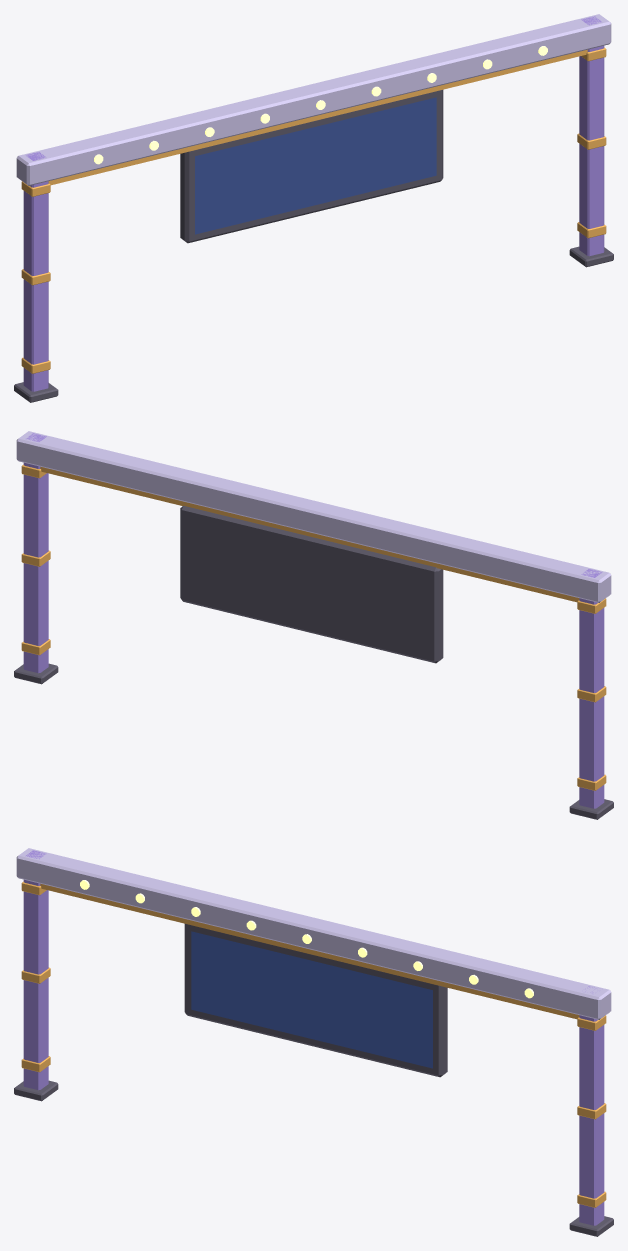
File: question_gantry.glb
3 renders of one model, top to bottom at view 1: azimuth 30°, elevation 25°; view 2: azimuth 150°, elevation 25°; view 3: azimuth 330°, elevation 25°, orthographic.
Visible parts, largest first — view 1: question_gantry, SCREEN; view 2: question_gantry; view 3: question_gantry, SCREEN.
Part boxes in pixels (x1=…): question_gantry: x1=14, y1=14, x2=613, y2=402; SCREEN: x1=195, y1=97, x2=436, y2=234; question_gantry: x1=14, y1=431, x2=613, y2=819; question_gantry: x1=14, y1=848, x2=613, y2=1236; SCREEN: x1=191, y1=931, x2=432, y2=1068.
Bounding box in the file's own units: 24.2 × 9.4 × 1.2.
